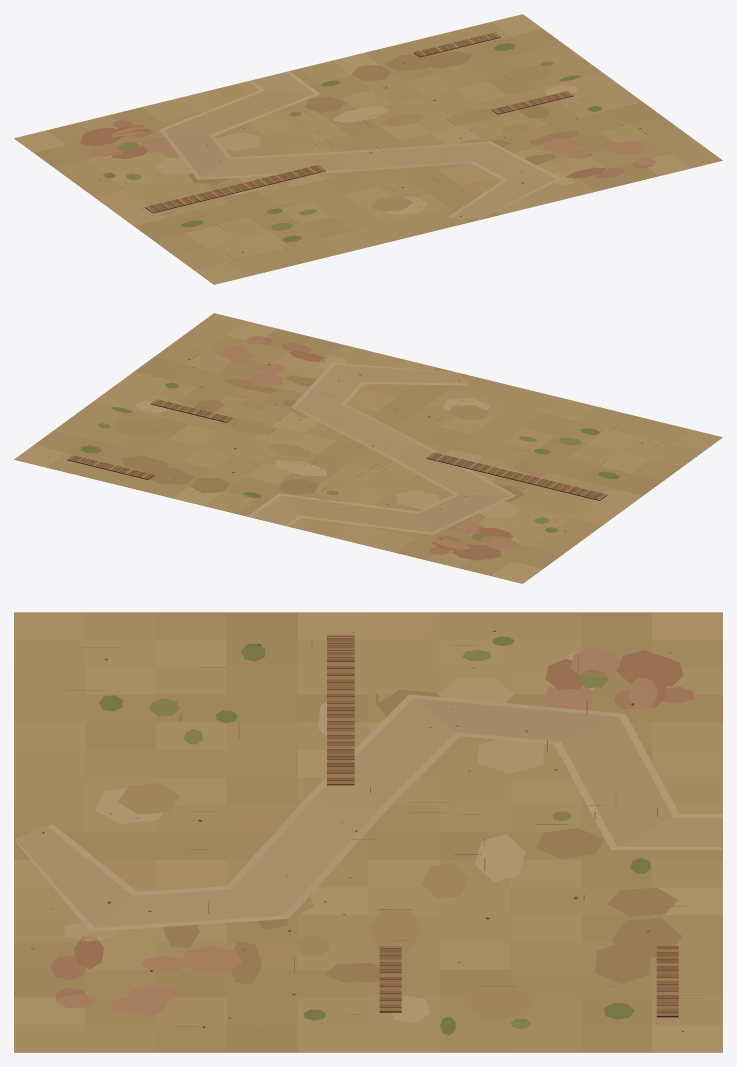
The model's file is Decor_WesternSaloon_Floor.fbx.
The picture shows the model from 3 angles, top to bottom: view 1: azimuth 30°, elevation 25°; view 2: azimuth 150°, elevation 25°; view 3: azimuth 270°, elevation 25°; orthographic projection. The views are drawn at different scales.
Parts seen in each view (by area): view 1: Floor_Body; view 2: Floor_Body; view 3: Floor_Body.
Boxes of the visible parts, bbox=[...] form: Floor_Body: bbox=[14, 14, 722, 284]; Floor_Body: bbox=[14, 313, 722, 583]; Floor_Body: bbox=[14, 612, 722, 1052].
Bounding box in the file's own units: 188 × 0.3 × 128.
